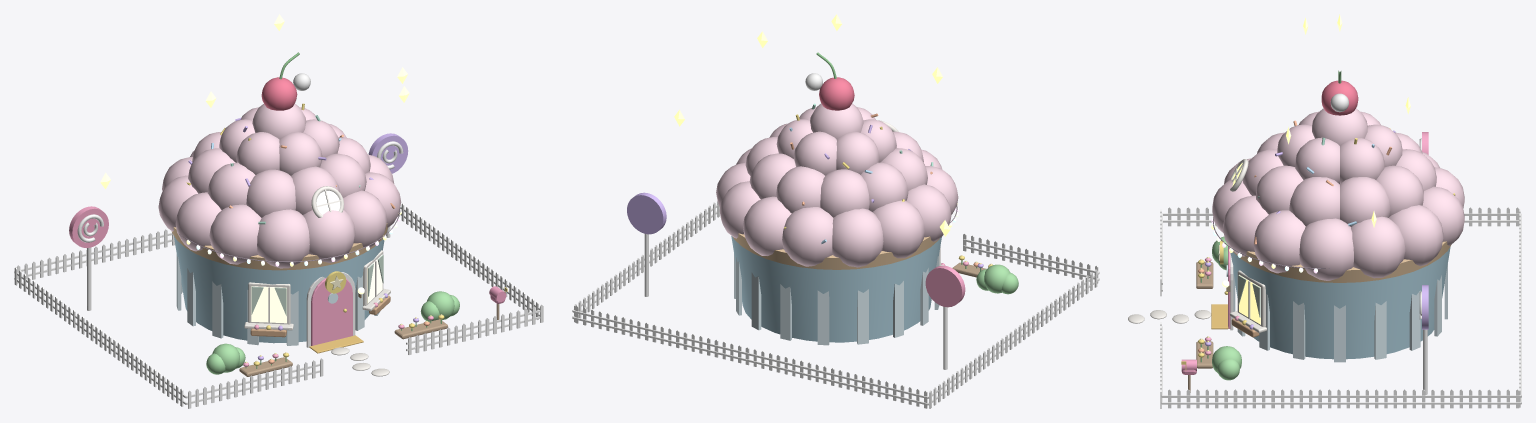
Rendered from building_sweets_L10.glb.
3 renders of one model, left to right at view 1: azimuth 30°, elevation 25°; view 2: azimuth 150°, elevation 25°; view 3: azimuth 270°, elevation 25°, orthographic. The views are drawn at different scales.
Visible parts, largest first — view 1: Body, sweets_L10; view 2: Body, sweets_L10; view 3: Body, sweets_L10.
Part boxes in pixels (x1=…): Body: x1=69, y1=52, x2=408, y2=353; sweets_L10: x1=14, y1=14, x2=543, y2=408; Body: x1=627, y1=52, x2=965, y2=369; sweets_L10: x1=572, y1=14, x2=1099, y2=408; Body: x1=1211, y1=70, x2=1464, y2=394; sweets_L10: x1=1128, y1=14, x2=1521, y2=408.
Bounding box in the file's own units: 25.35 × 19.77 × 23.04.
